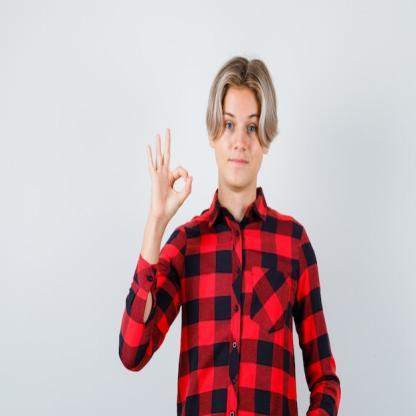ok: (142, 124, 194, 224)
